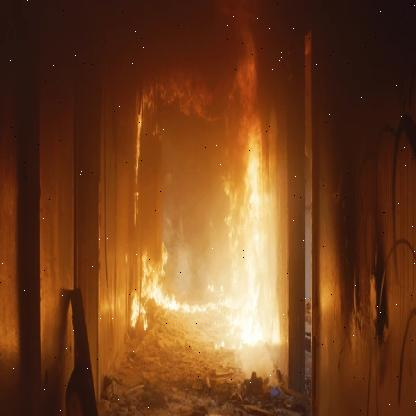fire: (125, 121, 283, 360)
smoke: (0, 0, 411, 155)
